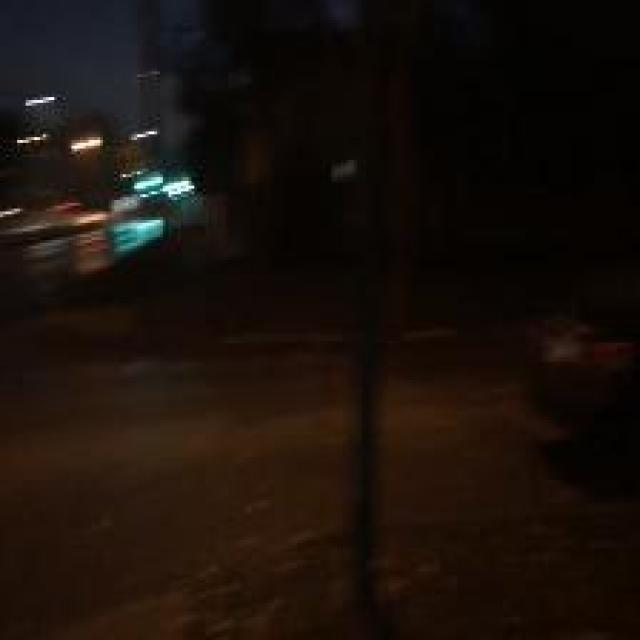other: (66, 200, 116, 227), (52, 126, 106, 150)
